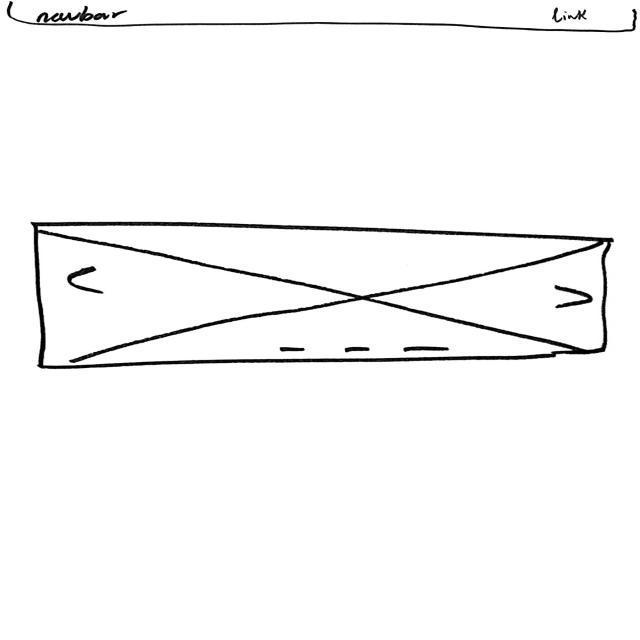container: (10, 1, 640, 34)
image: (29, 219, 613, 371)
label: (35, 6, 131, 23), (551, 8, 590, 24)
